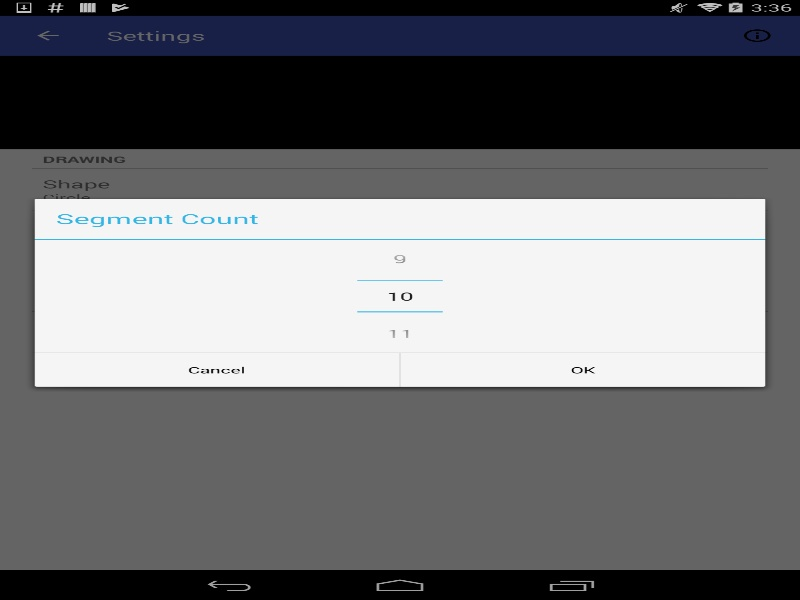Button: (34, 353, 399, 386), (400, 353, 765, 386), (357, 240, 442, 281), (357, 311, 442, 352)
Input: (357, 281, 442, 311)
